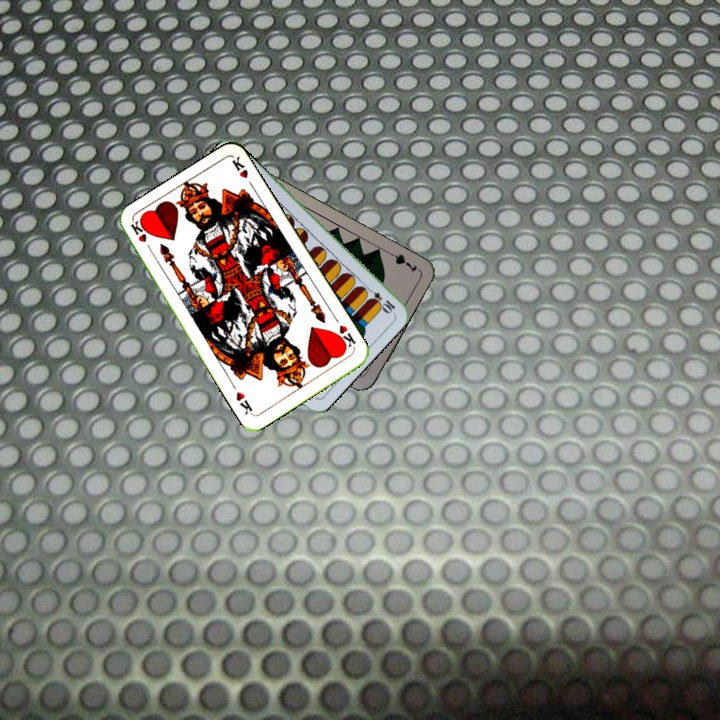E10: (362, 283, 398, 315)
G7: (382, 247, 420, 276)
HK: (127, 217, 155, 256), (331, 321, 358, 352)
